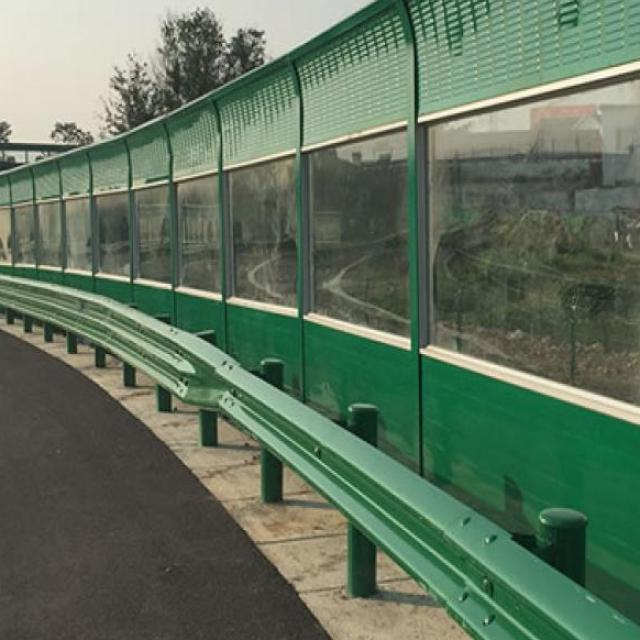Guard rail: (0, 276, 640, 640)
